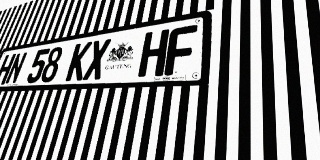5: (25, 48, 50, 83)
8: (39, 46, 65, 83)
F: (164, 24, 198, 76)
H: (137, 29, 170, 77), (0, 54, 16, 85)
K: (65, 41, 93, 81)
N: (4, 52, 28, 84)
X: (82, 38, 111, 80)
